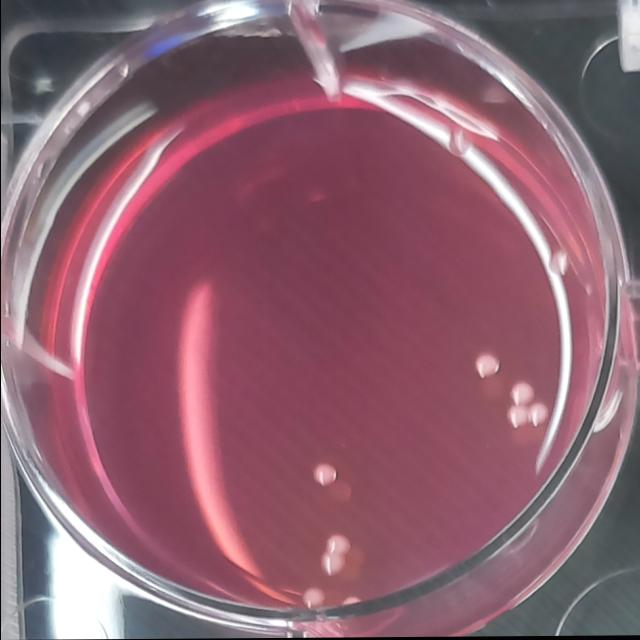Bacillus: (466, 347, 506, 391), (310, 457, 348, 496), (315, 550, 346, 579), (509, 379, 536, 409), (324, 531, 354, 558), (298, 583, 326, 610), (504, 405, 530, 431), (526, 405, 548, 430)
